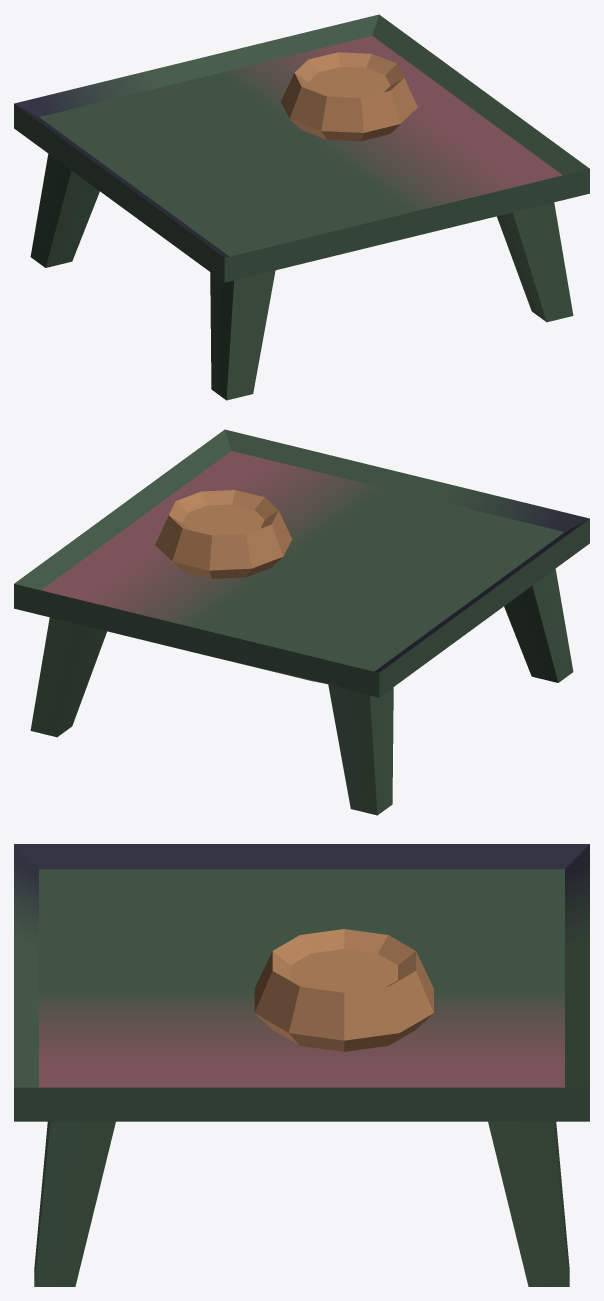
Rendered from Tavolo.fbx.
3 views of the same model, one above another, from view 1: azimuth 30°, elevation 25°; view 2: azimuth 150°, elevation 25°; view 3: azimuth 270°, elevation 25° (orthographic). The views are drawn at different scales.
Visible parts, largest first — view 1: Cube.001; view 2: Cube.001; view 3: Cube.001.
Boxes of the visible parts, bbox=[...] form: Cube.001: bbox=[14, 14, 589, 400]; Cube.001: bbox=[14, 429, 589, 815]; Cube.001: bbox=[14, 844, 589, 1286].
Size of the model in its own units: 200 by 96.63 by 200.
